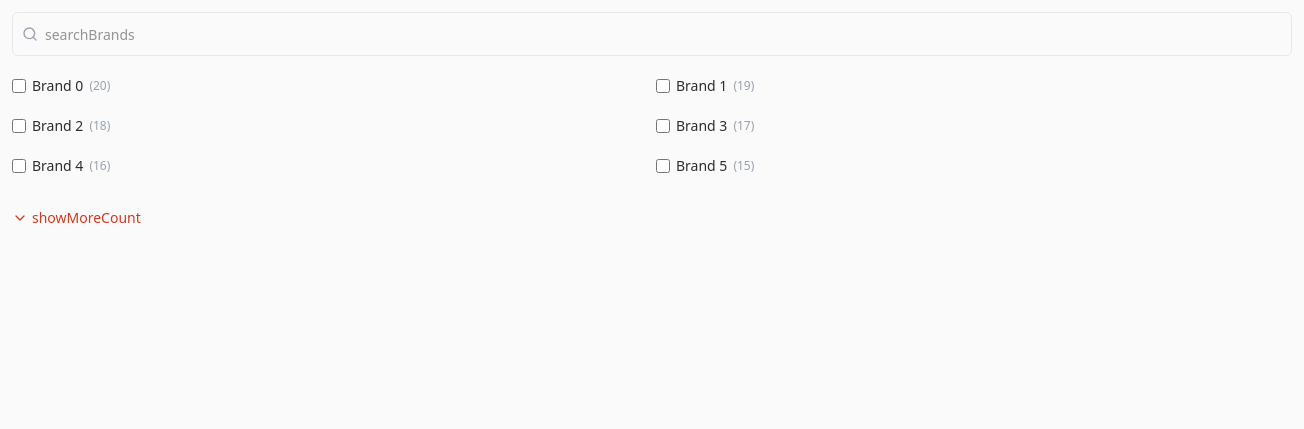
Test: BrandFilter › expands inside a bounded scroll region instead of stretching the page
Click the button with aria-label "Show more brands" at point(76, 218), box [12,196,141,240]
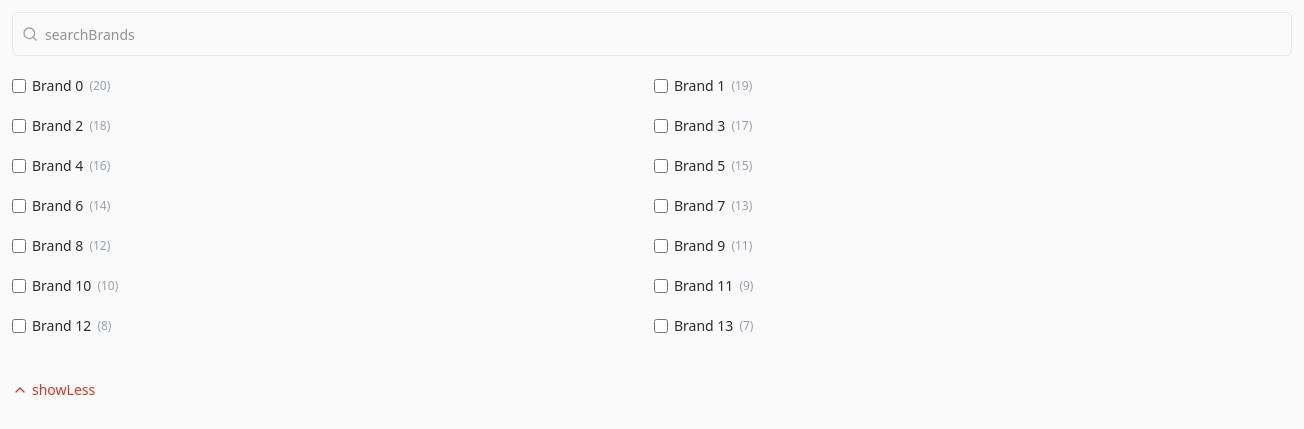
Check: the button with aria-label "Show less brands" is shown, box [12,368,95,412]
